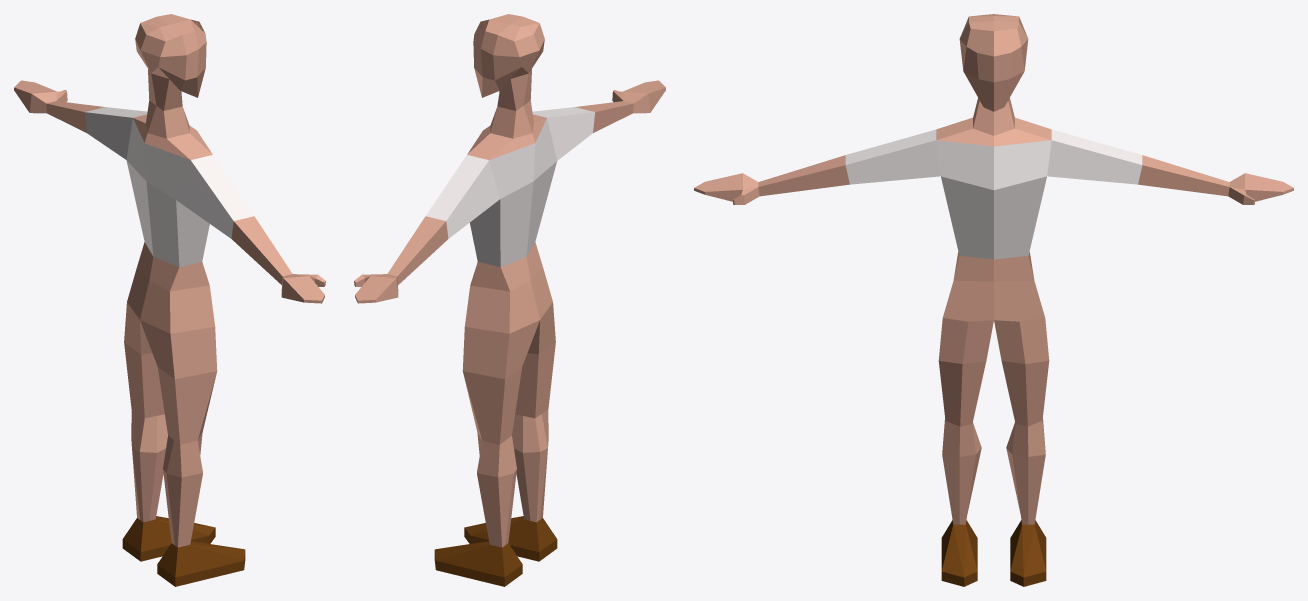
Rendered from SM_Worker_Base.fbx.
3 renders of one model, left to right at view 1: azimuth 30°, elevation 25°; view 2: azimuth 150°, elevation 25°; view 3: azimuth 270°, elevation 25°, orthographic.
Visible parts, largest first — view 1: Body; view 2: Body; view 3: Body.
Boxes of the visible parts, x1=… form: Body: x1=14, y1=14, x2=325, y2=586; Body: x1=354, y1=14, x2=665, y2=586; Body: x1=694, y1=14, x2=1293, y2=586.
Bounding box in the file's own units: 30.79 × 175 × 177.
